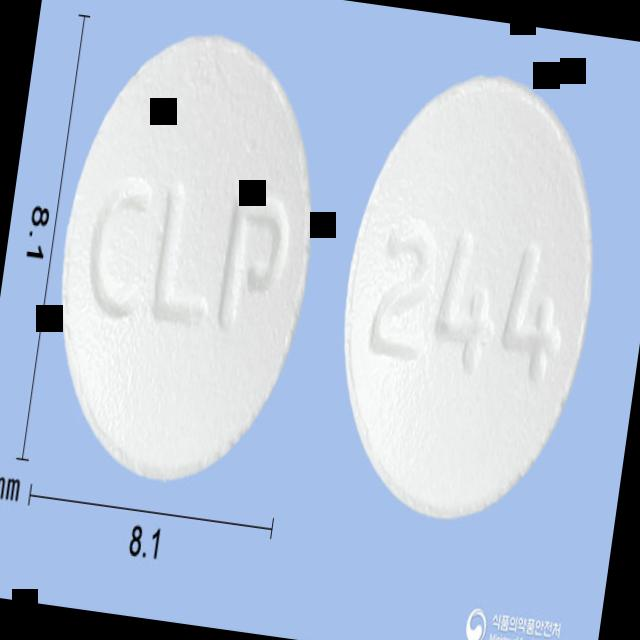Amoxicle-7-1-: (34, 17, 340, 498), (318, 58, 620, 537)
